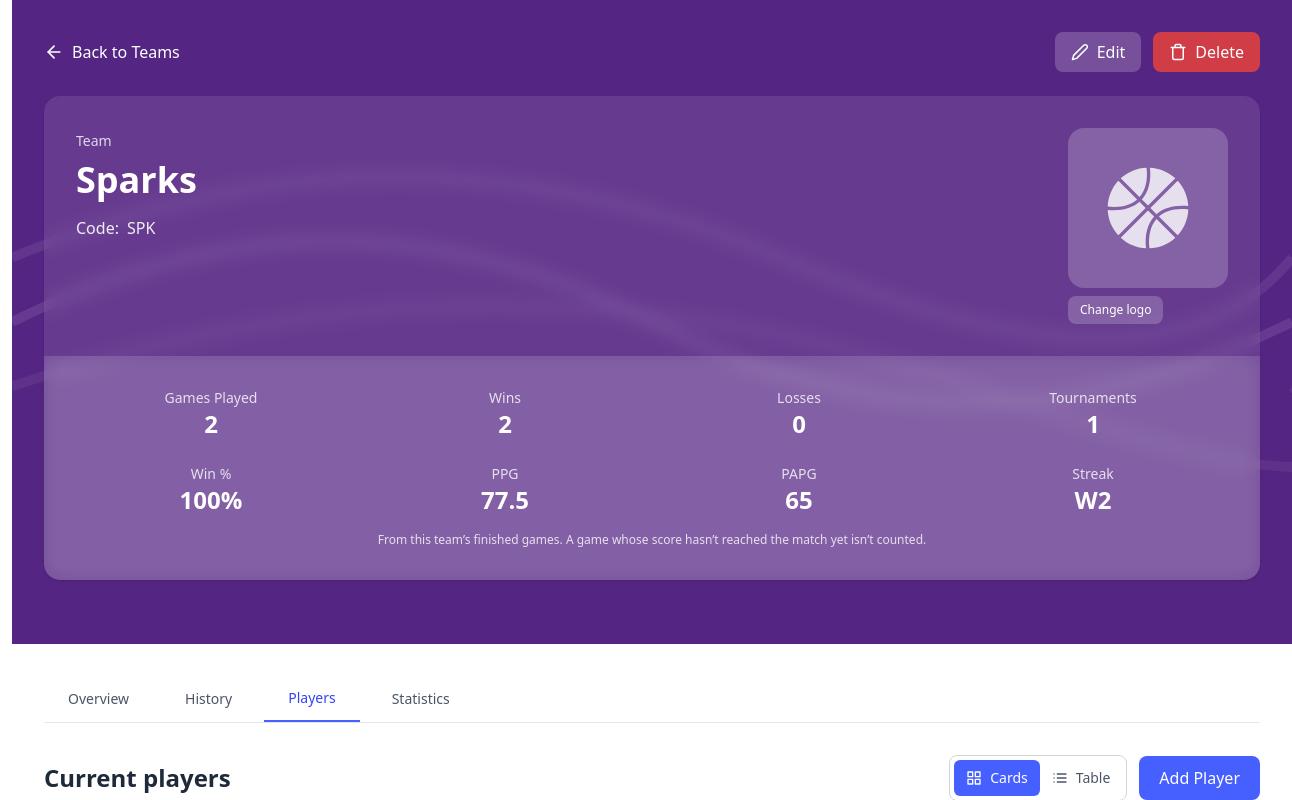
Scenario: TeamDetails: roster › switches the roster between cards and a table, and remembers the choice
Click the button "Table" at (1081, 778), box [1040,760,1122,796]
(page scrolled)
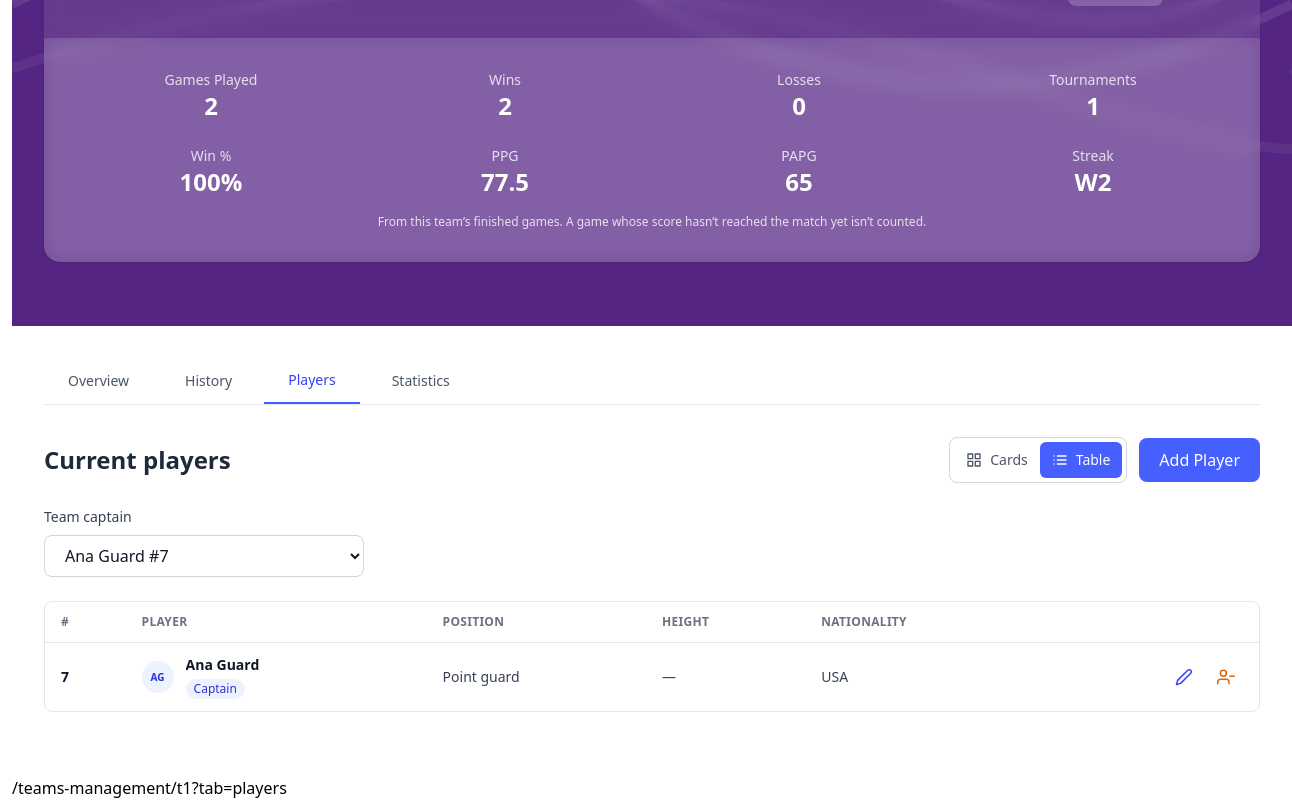
Check: the text "7" is shown, box [45,643,126,711]
Check: the text "USA" is shown, box [805,643,1042,711]
